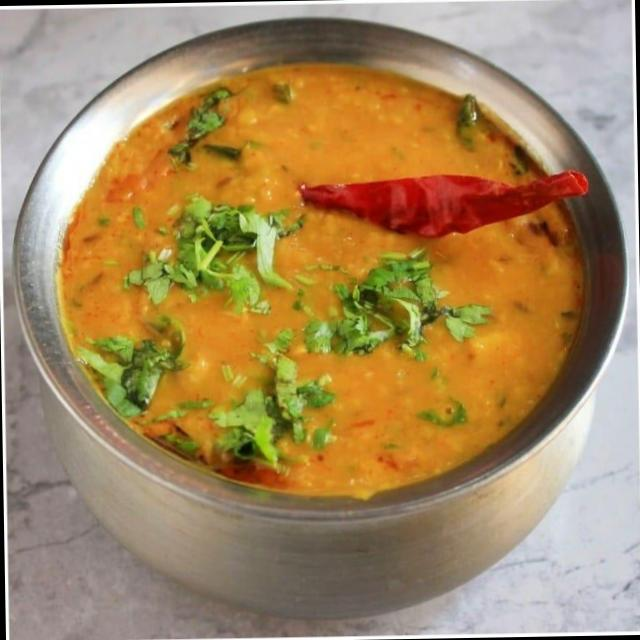dal: (33, 15, 600, 545)
